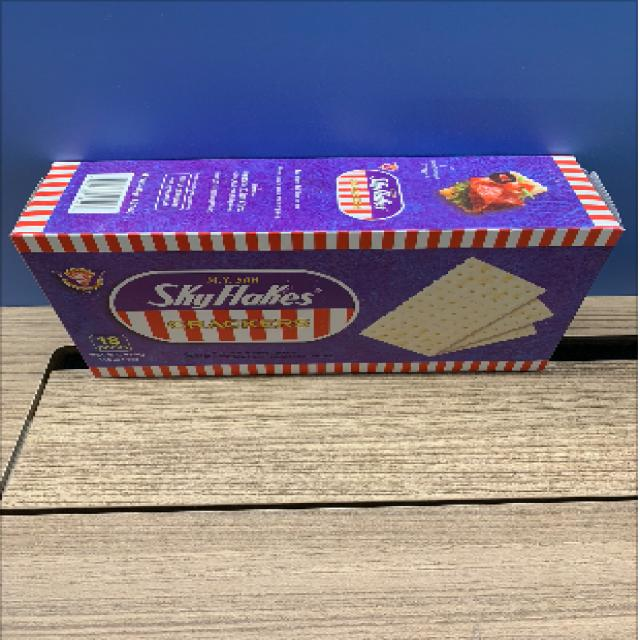object_name: (37, 166, 608, 372)
